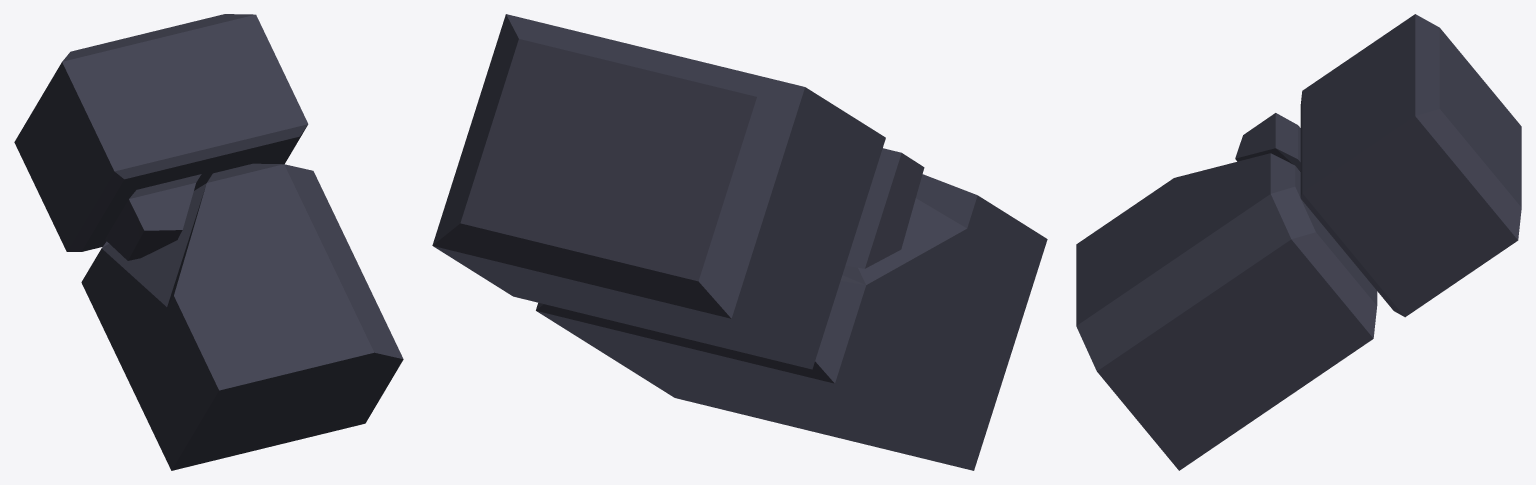
The model's file is Edge_Stairs_Tini_02.fbx.
The picture shows the model from 3 angles, left to right: view 1: azimuth 30°, elevation 25°; view 2: azimuth 150°, elevation 25°; view 3: azimuth 270°, elevation 25°; orthographic projection. The views are drawn at different scales.
Visible parts, largest first — view 1: 1-Stairs_Tini_Edge_02; view 2: 1-Stairs_Tini_Edge_02; view 3: 1-Stairs_Tini_Edge_02.
Part boxes in pixels (x1=…): 1-Stairs_Tini_Edge_02: x1=14, y1=14, x2=403, y2=470; 1-Stairs_Tini_Edge_02: x1=432, y1=14, x2=1047, y2=470; 1-Stairs_Tini_Edge_02: x1=1076, y1=14, x2=1521, y2=470.
Size of the model in its own units: 0.6843 by 1.26 by 1.11.
